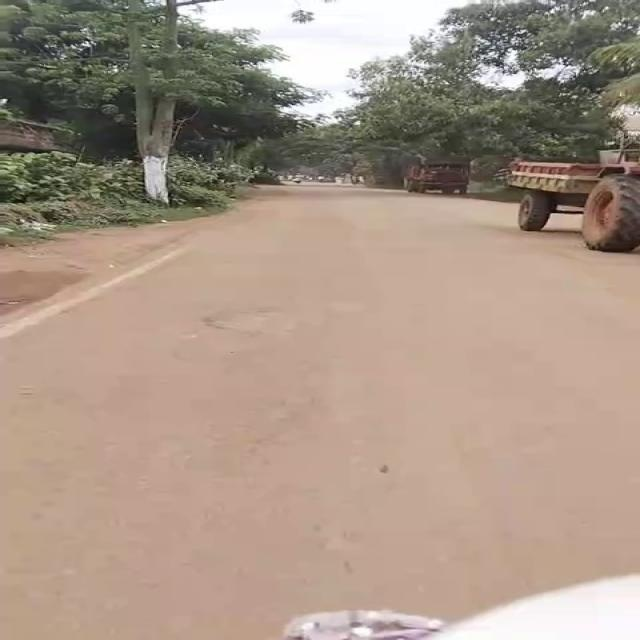pothole: (205, 308, 306, 341)
